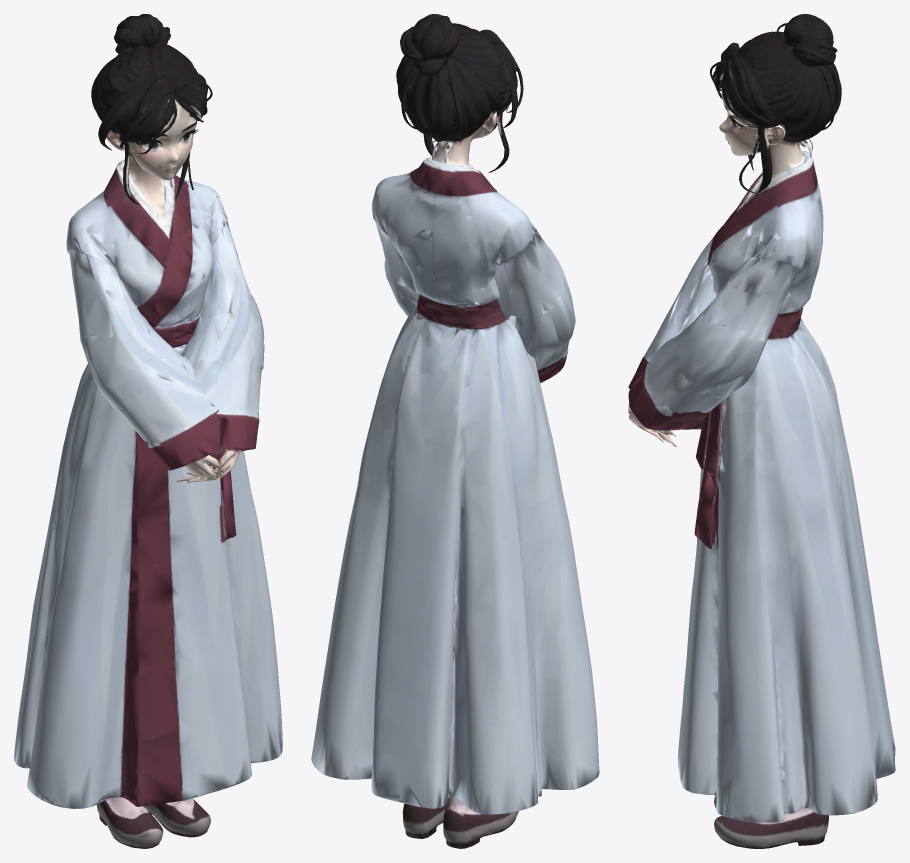
The model's file is abisa-pose.glb.
3 renders of one model, left to right at view 1: azimuth 30°, elevation 25°; view 2: azimuth 150°, elevation 25°; view 3: azimuth 270°, elevation 25°, orthographic. The views are drawn at different scales.
Visible parts, largest first — view 1: Mesh_0; view 2: Mesh_0; view 3: Mesh_0.
Boxes of the visible parts, x1,y1,x2,y2 form: Mesh_0: (14, 14, 282, 848); Mesh_0: (311, 14, 599, 848); Mesh_0: (628, 14, 895, 848).
Bounding box in the file's own units: 0.3252 × 1 × 0.2969.
1 material, 1 textured.
